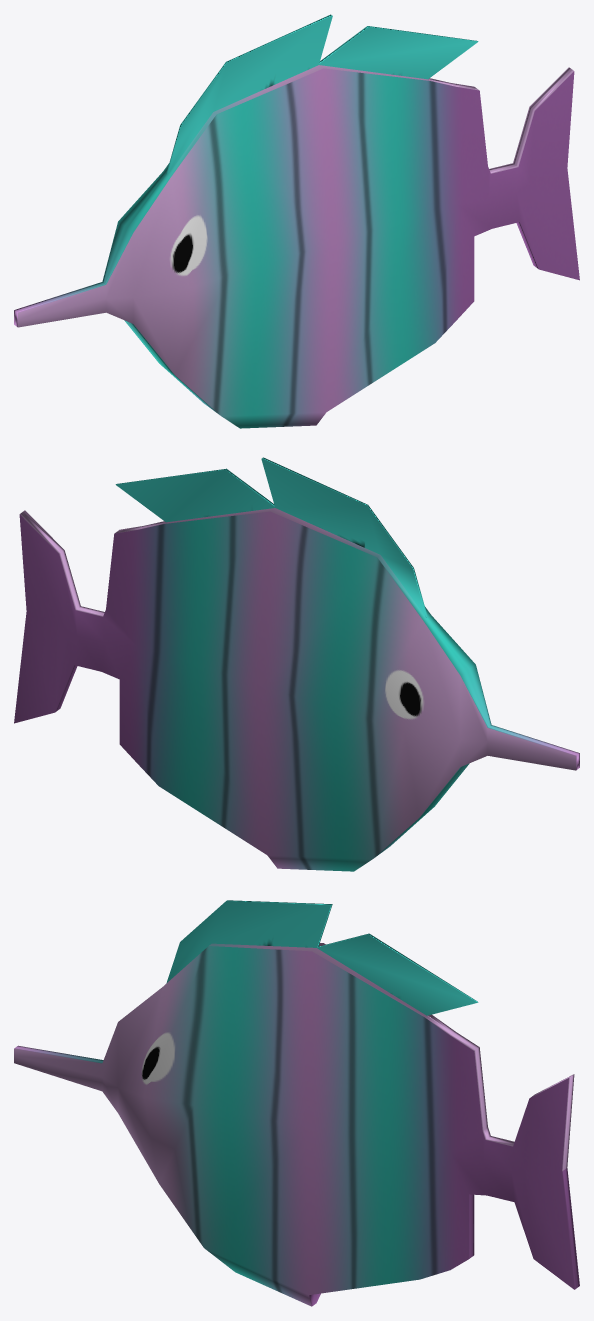
Rendered from Fish02.fbx.
3 renders of one model, top to bottom at view 1: azimuth 30°, elevation 25°; view 2: azimuth 150°, elevation 25°; view 3: azimuth 330°, elevation 25°, orthographic.
Visible parts, largest first — view 1: Fish02; view 2: Fish02; view 3: Fish02.
Part boxes in pixels (x1,y1,x2,y2): Fish02: (14, 14, 579, 428); Fish02: (14, 457, 579, 871); Fish02: (14, 900, 579, 1306).
Bounding box in the file's own units: 1.55 × 1.07 × 0.2152.
